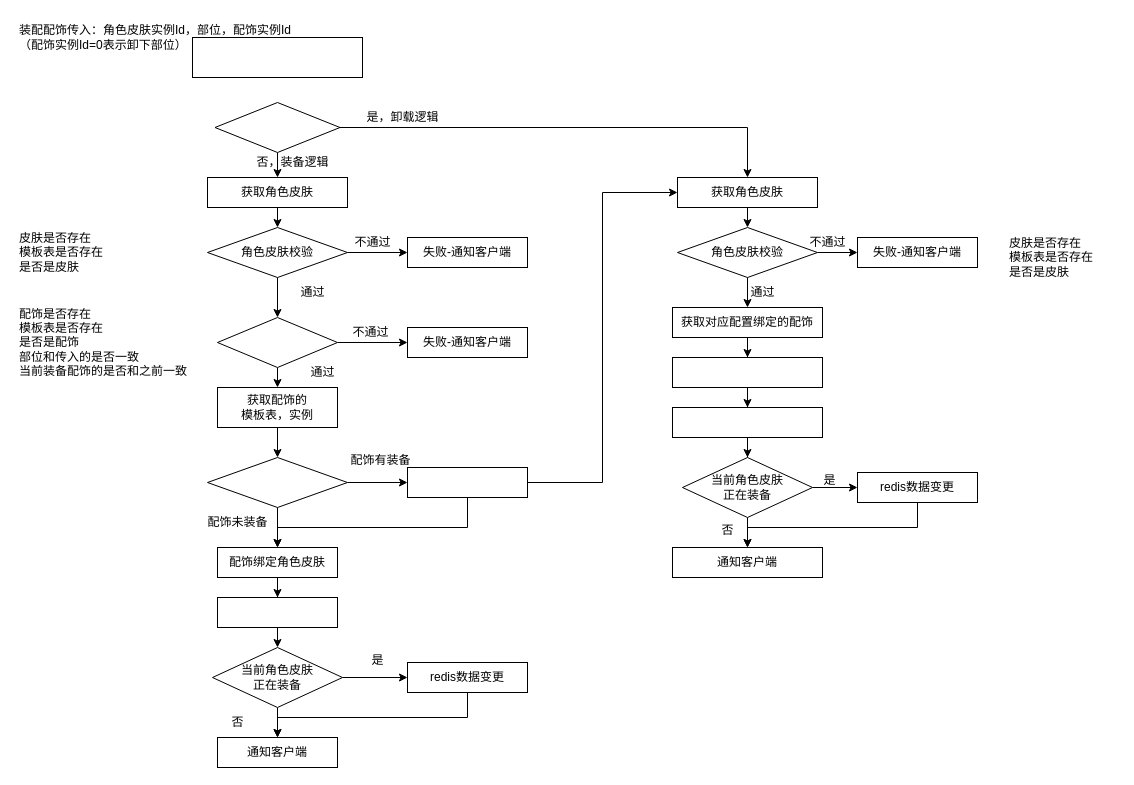
Some shapes in this 1134 by 785 pixel diagram are drawn without their labels. The shapes that lost their labels are listed below. From the top down, each one's box as (x1, y1, x2, y2) in pixels, then its label:
(192, 36, 362, 78): 装备配饰
(214, 102, 340, 152): 配饰实例 Id =0
(216, 316, 338, 368): 配饰校验
(672, 356, 822, 388): 配饰清除绑定关系
(672, 406, 822, 438): 角色皮肤清除绑定关系
(206, 456, 348, 508): 配饰 装备到皮肤
(406, 466, 528, 498): 卸载配饰
(216, 596, 338, 628): 角色皮肤绑定配饰
